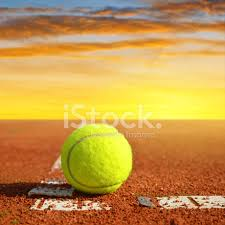tennis_ball: (61, 122, 135, 197)
